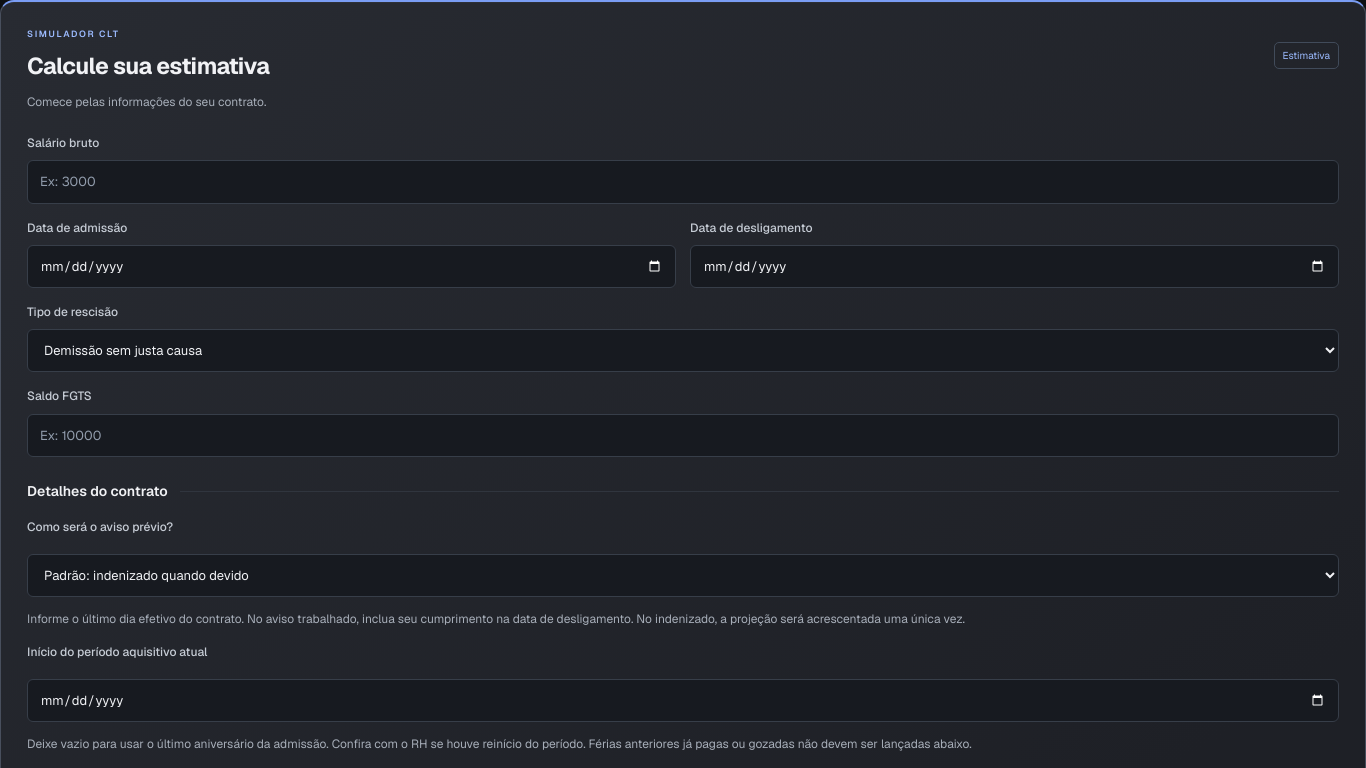
it: simula com as datas locais escolhidas, mostra parcelas e limpa o formulário
This screenshot has width=1366, height=768.
Type "3000" into the number field labelled "Salário bruto" at (683, 182), box [27,160,1339,204]
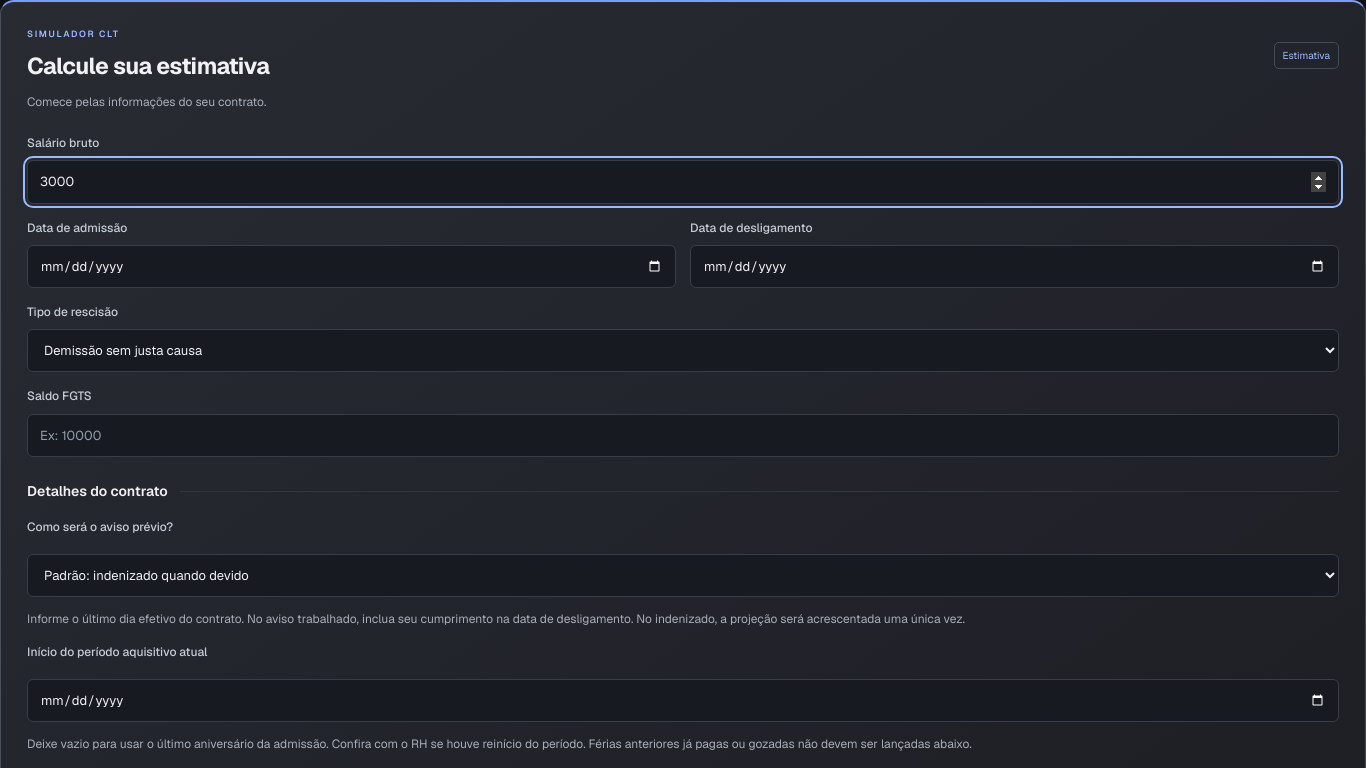
Type "2026-01-01" into the date field labelled "Data de admissão" at (352, 267), box [27,245,676,288]
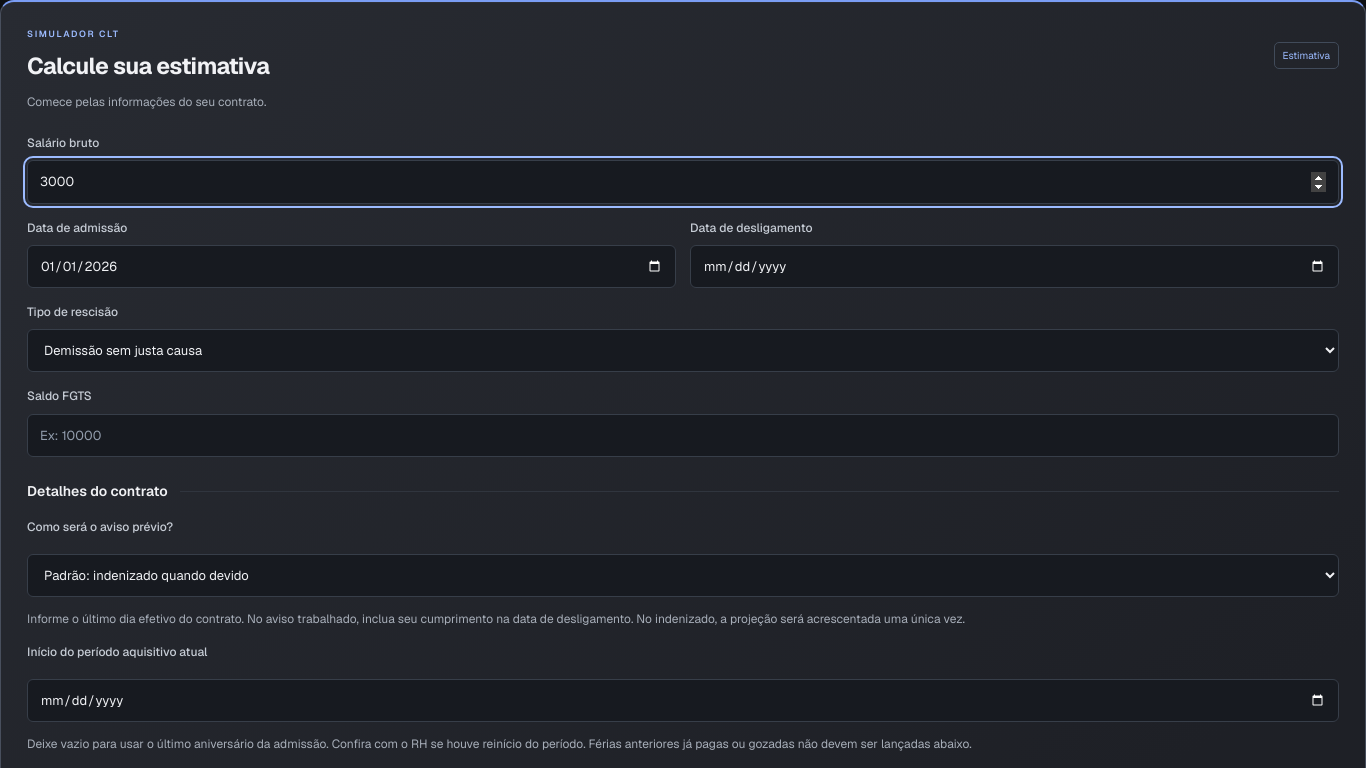
Type "2026-01-15" into the date field labelled "Data de desligamento" at (1014, 267), box [690,245,1339,288]
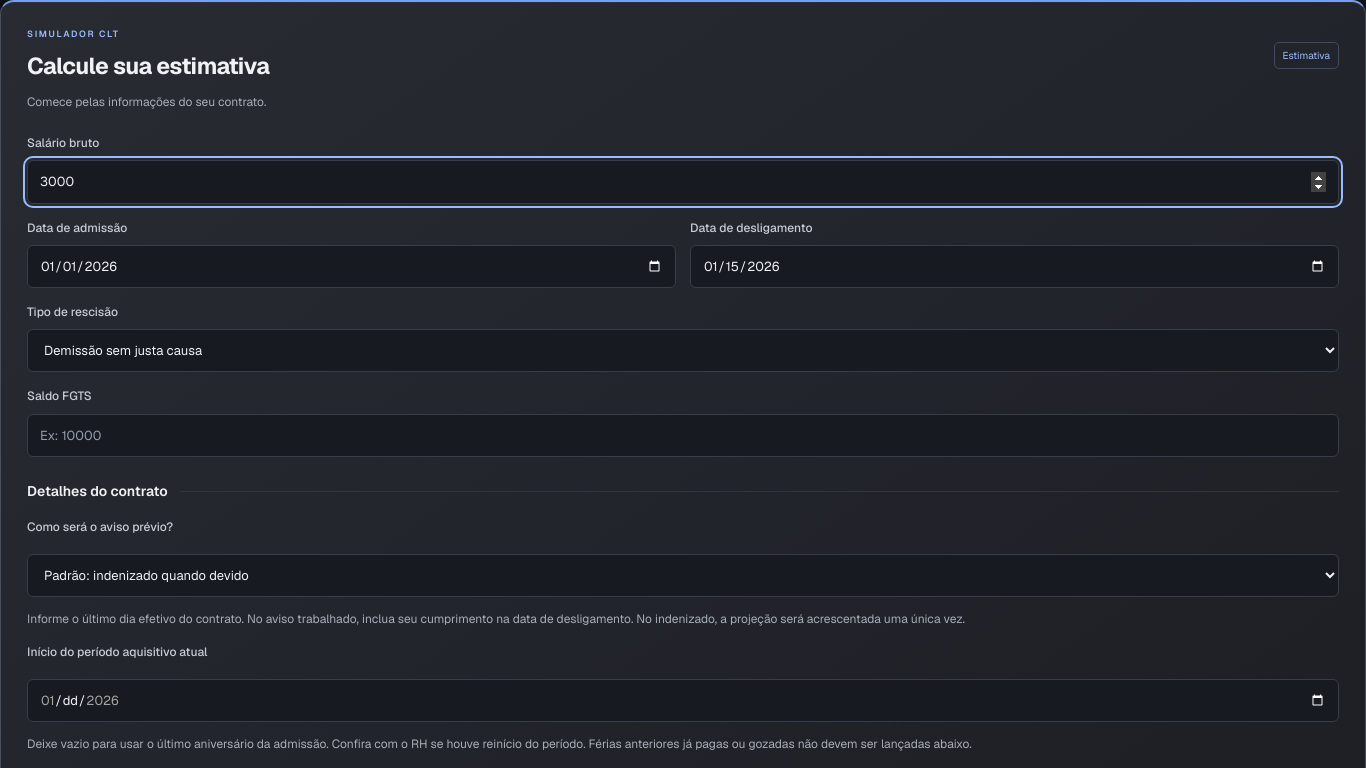
Select "Pedido de demissão" in the dropdown labelled "Tipo de rescisão" at (683, 351), box [27,329,1339,372]
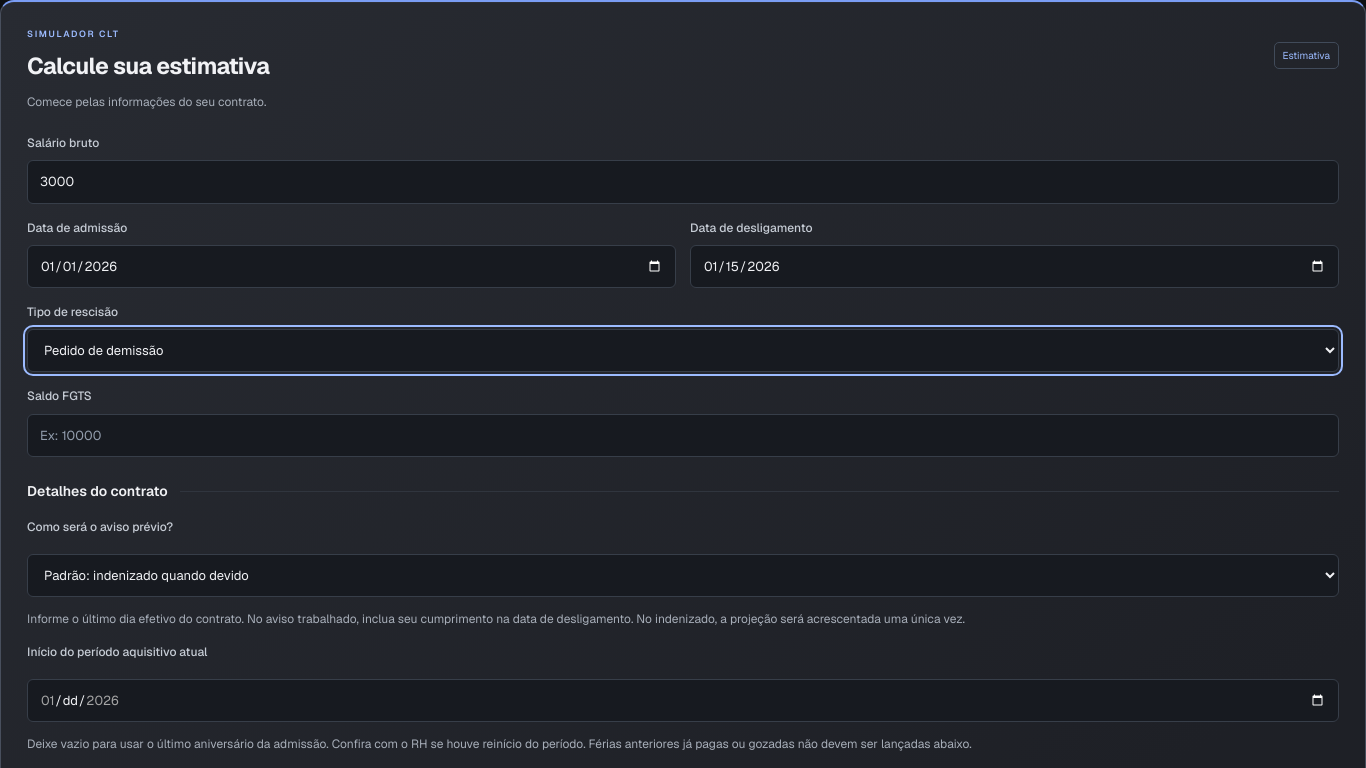
Type "10000" into the number field labelled "Saldo FGTS" at (683, 435), box [27,414,1339,457]
(page scrolled)
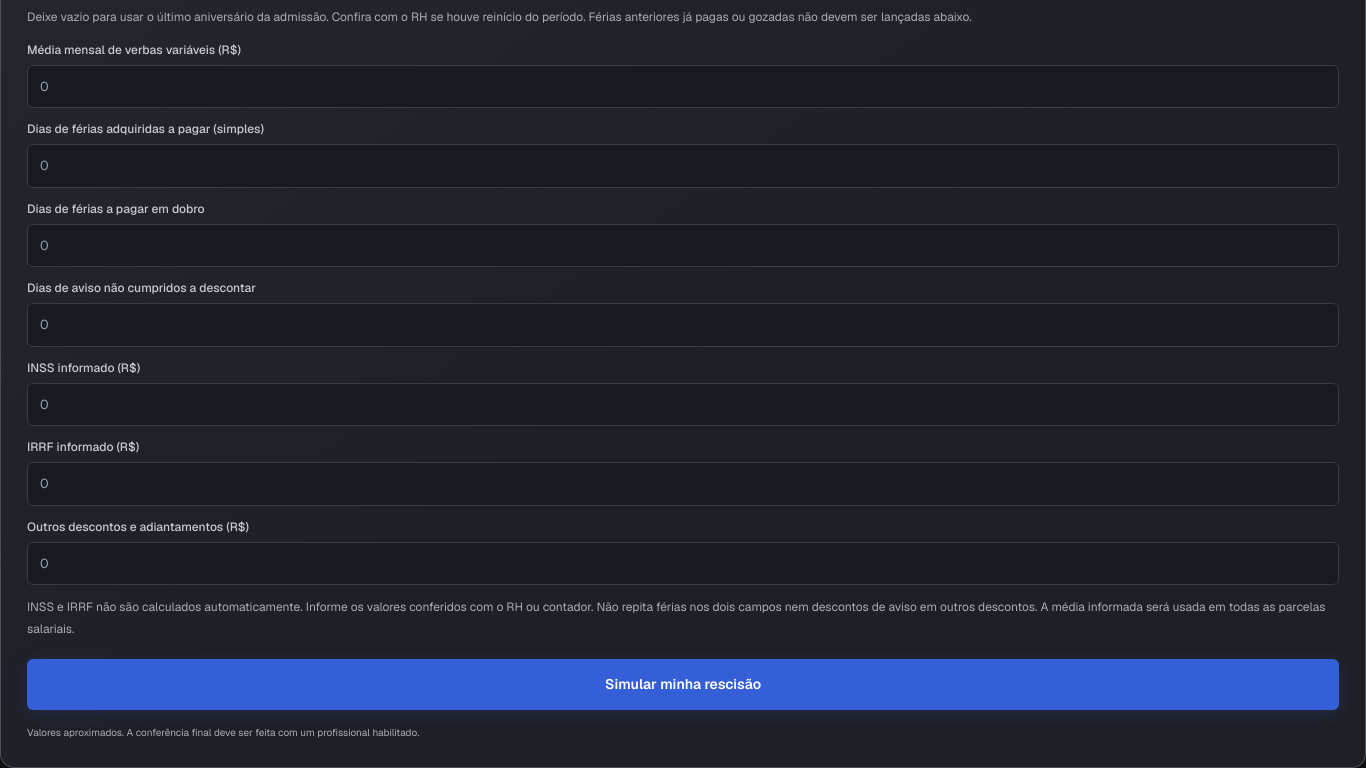
Click the button "Simular minha rescisão" at (683, 685), box [27,659,1339,710]
(page scrolled)
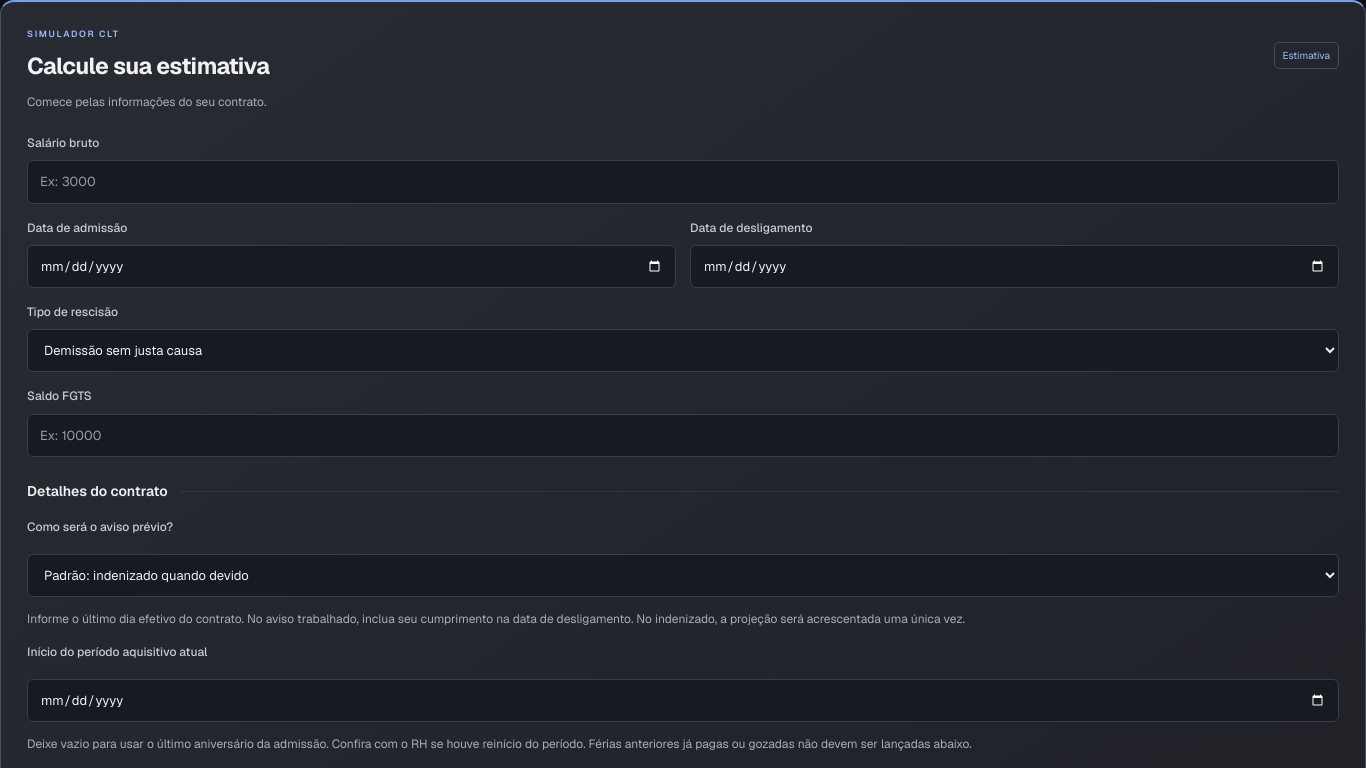
Now the number field labelled "Salário bruto" is not empty, box [27,160,1339,204]
Now the date field labelled "Data de admissão" is empty, box [27,245,676,288]
Now the date field labelled "Data de desligamento" is empty, box [690,245,1339,288]
